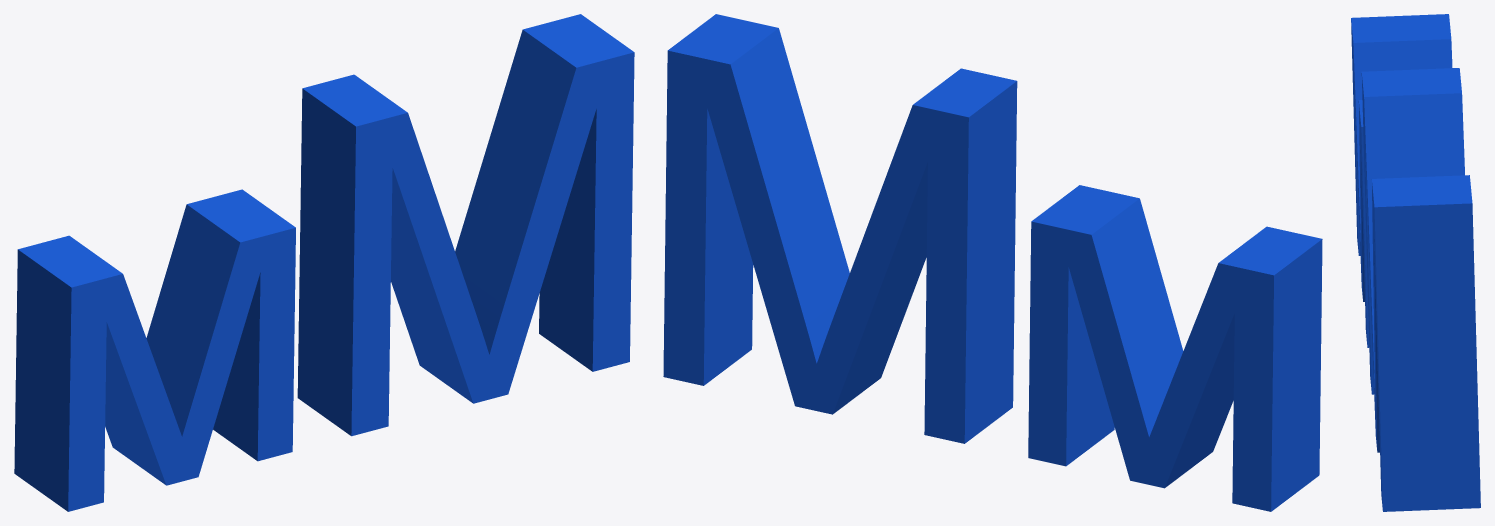
The picture shows the model from 3 angles, left to right: view 1: azimuth 30°, elevation 25°; view 2: azimuth 150°, elevation 25°; view 3: azimuth 270°, elevation 25°; orthographic projection. The views are drawn at different scales.
Parts seen in each view (by area): view 1: Mesh_0.016; view 2: Mesh_0.016; view 3: Mesh_0.016.
Part boxes in pixels (x1,y1,x2,y2): Mesh_0.016: [14, 14, 634, 511]; Mesh_0.016: [663, 14, 1322, 511]; Mesh_0.016: [1351, 14, 1480, 511].
Size of the model in its own units: 13.85 by 7.21 by 2.76.
